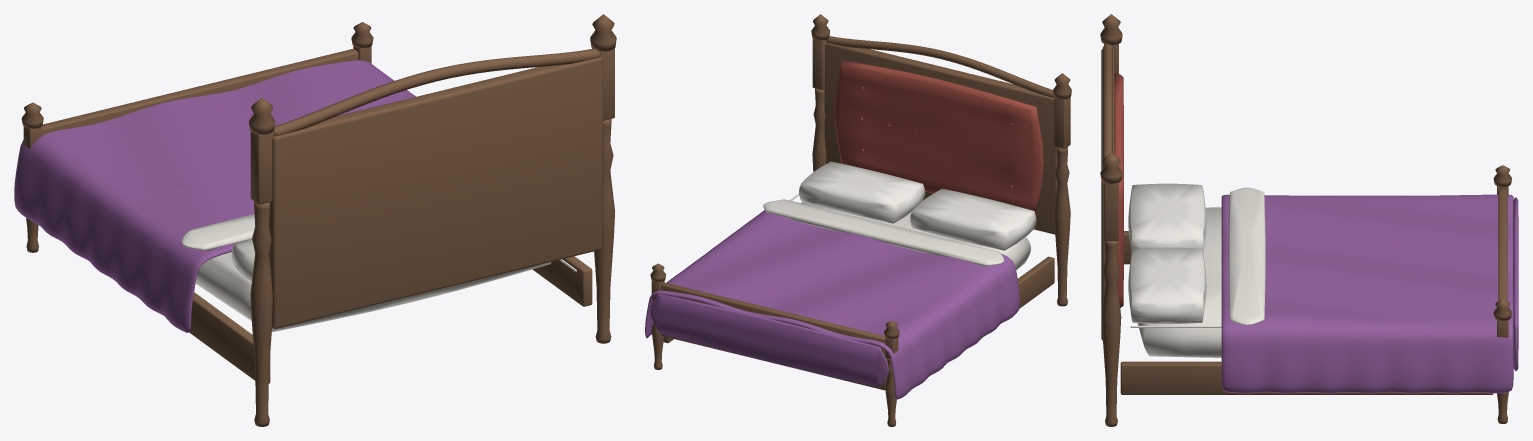
The model's file is bed_17.glb.
The picture shows the model from 3 angles, left to right: view 1: azimuth 30°, elevation 25°; view 2: azimuth 150°, elevation 25°; view 3: azimuth 270°, elevation 25°; orthographic projection. The views are drawn at different scales.
Parts seen in each view (by area): view 1: bed_17; view 2: bed_17; view 3: bed_17.
Boxes of the visible parts, box(x1,y1,x2,y2) form: bed_17: box(14, 14, 616, 426); bed_17: box(645, 14, 1071, 426); bed_17: box(1100, 14, 1518, 426).
Bounding box in the file's own units: 1.88 × 1.61 × 2.25.
